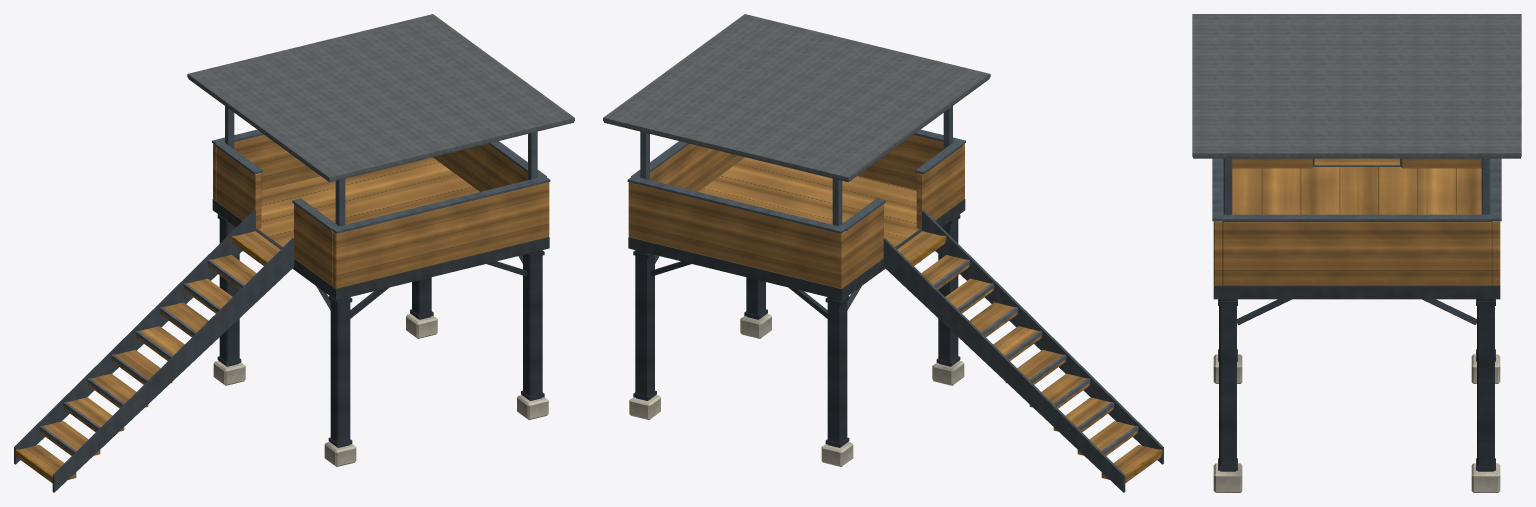
File: watchtower.glb
3 renders of one model, left to right at view 1: azimuth 30°, elevation 25°; view 2: azimuth 150°, elevation 25°; view 3: azimuth 270°, elevation 25°, orthographic. The views are drawn at different scales.
Parts seen in each view (by area): view 1: PaintedMetal, Wood, BareMetal, NS_PaintedMetal, NS_BareMetal, Concrete; view 2: PaintedMetal, Wood, BareMetal, NS_PaintedMetal, NS_BareMetal, Concrete; view 3: PaintedMetal, Wood, BareMetal, NS_PaintedMetal, Concrete, NS_BareMetal.
Boxes of the visible parts, x1=… form: PaintedMetal: x1=14, y1=14, x2=574, y2=492; Wood: x1=16, y1=135, x2=549, y2=483; BareMetal: x1=219, y1=220, x2=542, y2=447; NS_PaintedMetal: x1=188, y1=78, x2=573, y2=233; NS_BareMetal: x1=15, y1=214, x2=544, y2=480; Concrete: x1=213, y1=313, x2=548, y2=466; PaintedMetal: x1=603, y1=14, x2=1163, y2=492; Wood: x1=628, y1=135, x2=1161, y2=483; BareMetal: x1=635, y1=220, x2=958, y2=447; NS_PaintedMetal: x1=604, y1=78, x2=989, y2=233; NS_BareMetal: x1=633, y1=214, x2=1162, y2=480; Concrete: x1=629, y1=313, x2=964, y2=466; PaintedMetal: x1=1192, y1=14, x2=1521, y2=299; Wood: x1=1213, y1=158, x2=1500, y2=285; BareMetal: x1=1219, y1=299, x2=1494, y2=471; NS_PaintedMetal: x1=1193, y1=157, x2=1520, y2=221; Concrete: x1=1213, y1=354, x2=1500, y2=492; NS_BareMetal: x1=1218, y1=299, x2=1495, y2=470.
Size of the model in its own units: 8.81 by 5.39 by 4.6.
4 materials, 4 textured.
